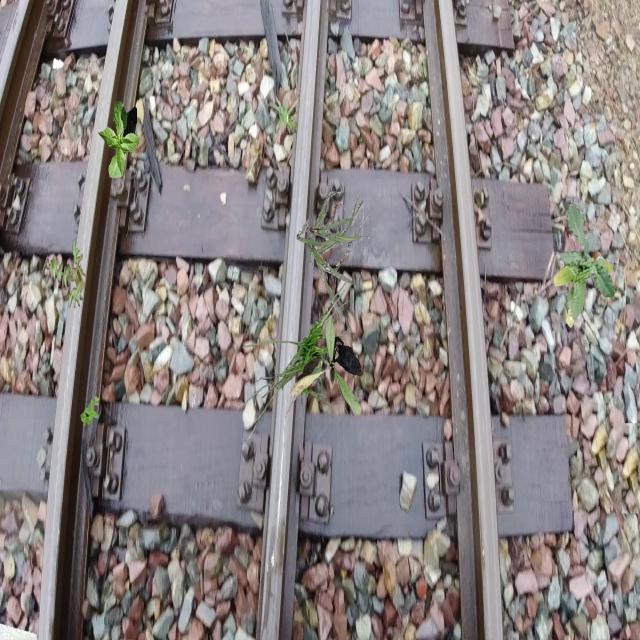Plant: (240, 278, 358, 442), (297, 191, 370, 316), (553, 204, 616, 328), (290, 315, 362, 414), (98, 99, 140, 179), (45, 237, 86, 308), (267, 89, 300, 135), (80, 396, 100, 428)
